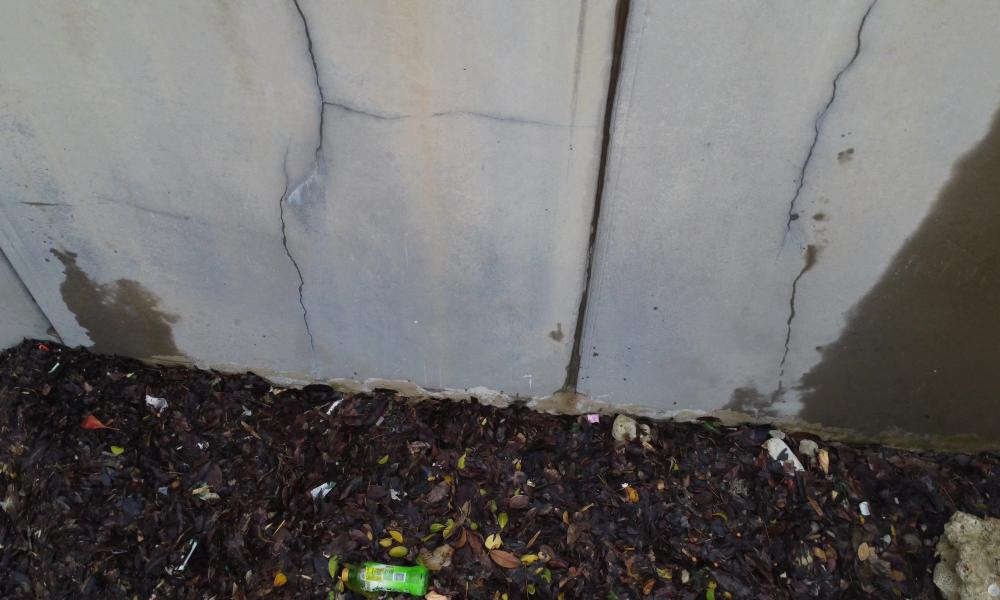plastic bottle: (326, 561, 429, 600)
